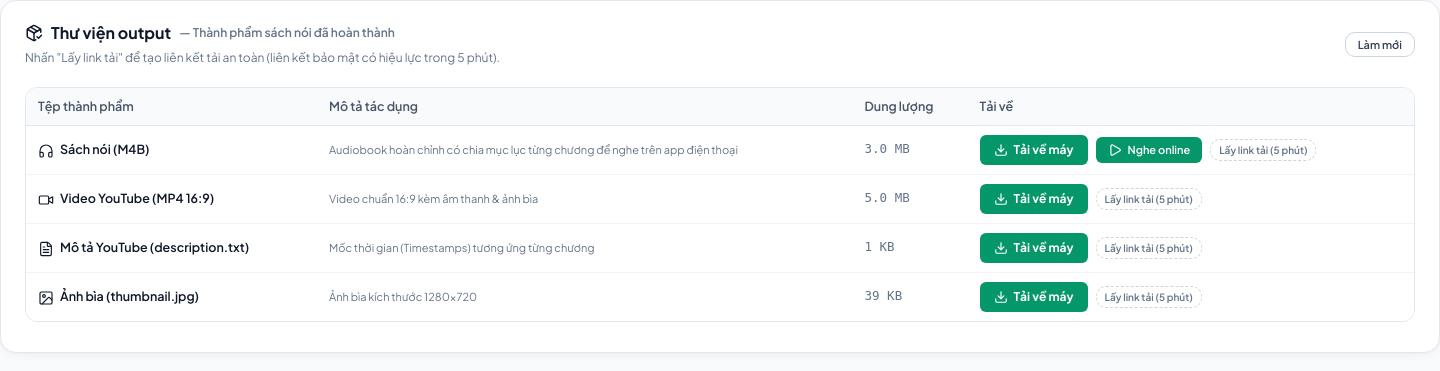
Test: JobOutputs › xin link: GET download-url → anchor href presigned + ghi thời hạn 300s
The width and height of the screenshot is (1440, 371).
Expected: the text "Sách nói (M4B)" is shown, [26, 126, 317, 175]
Click the button "Lấy link tải (5 phút)" next to "Nghe online" at (1263, 150), box [1210, 139, 1316, 161]
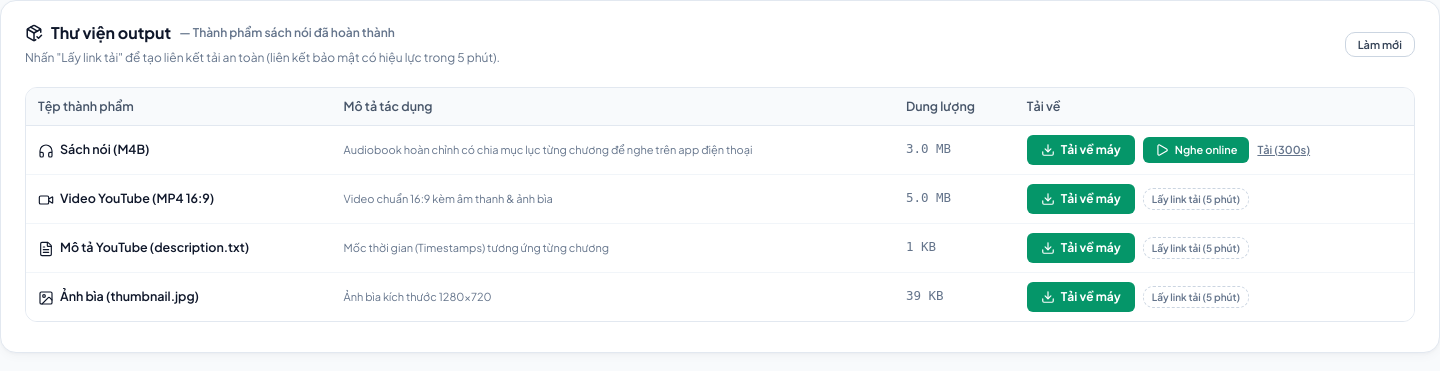
Expected: the link "Tải (300s)" is shown, [1257, 142, 1310, 158]
